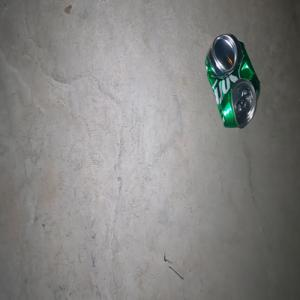SodaCan: (204, 32, 260, 128)
